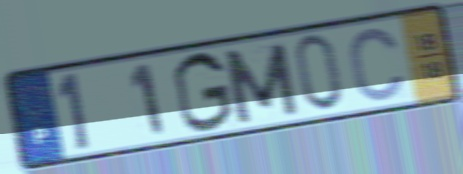0: (292, 32, 347, 116)
1: (53, 69, 92, 154), (127, 60, 167, 138)
C: (347, 25, 408, 104)
G: (170, 50, 235, 136)
M: (219, 39, 302, 127)
